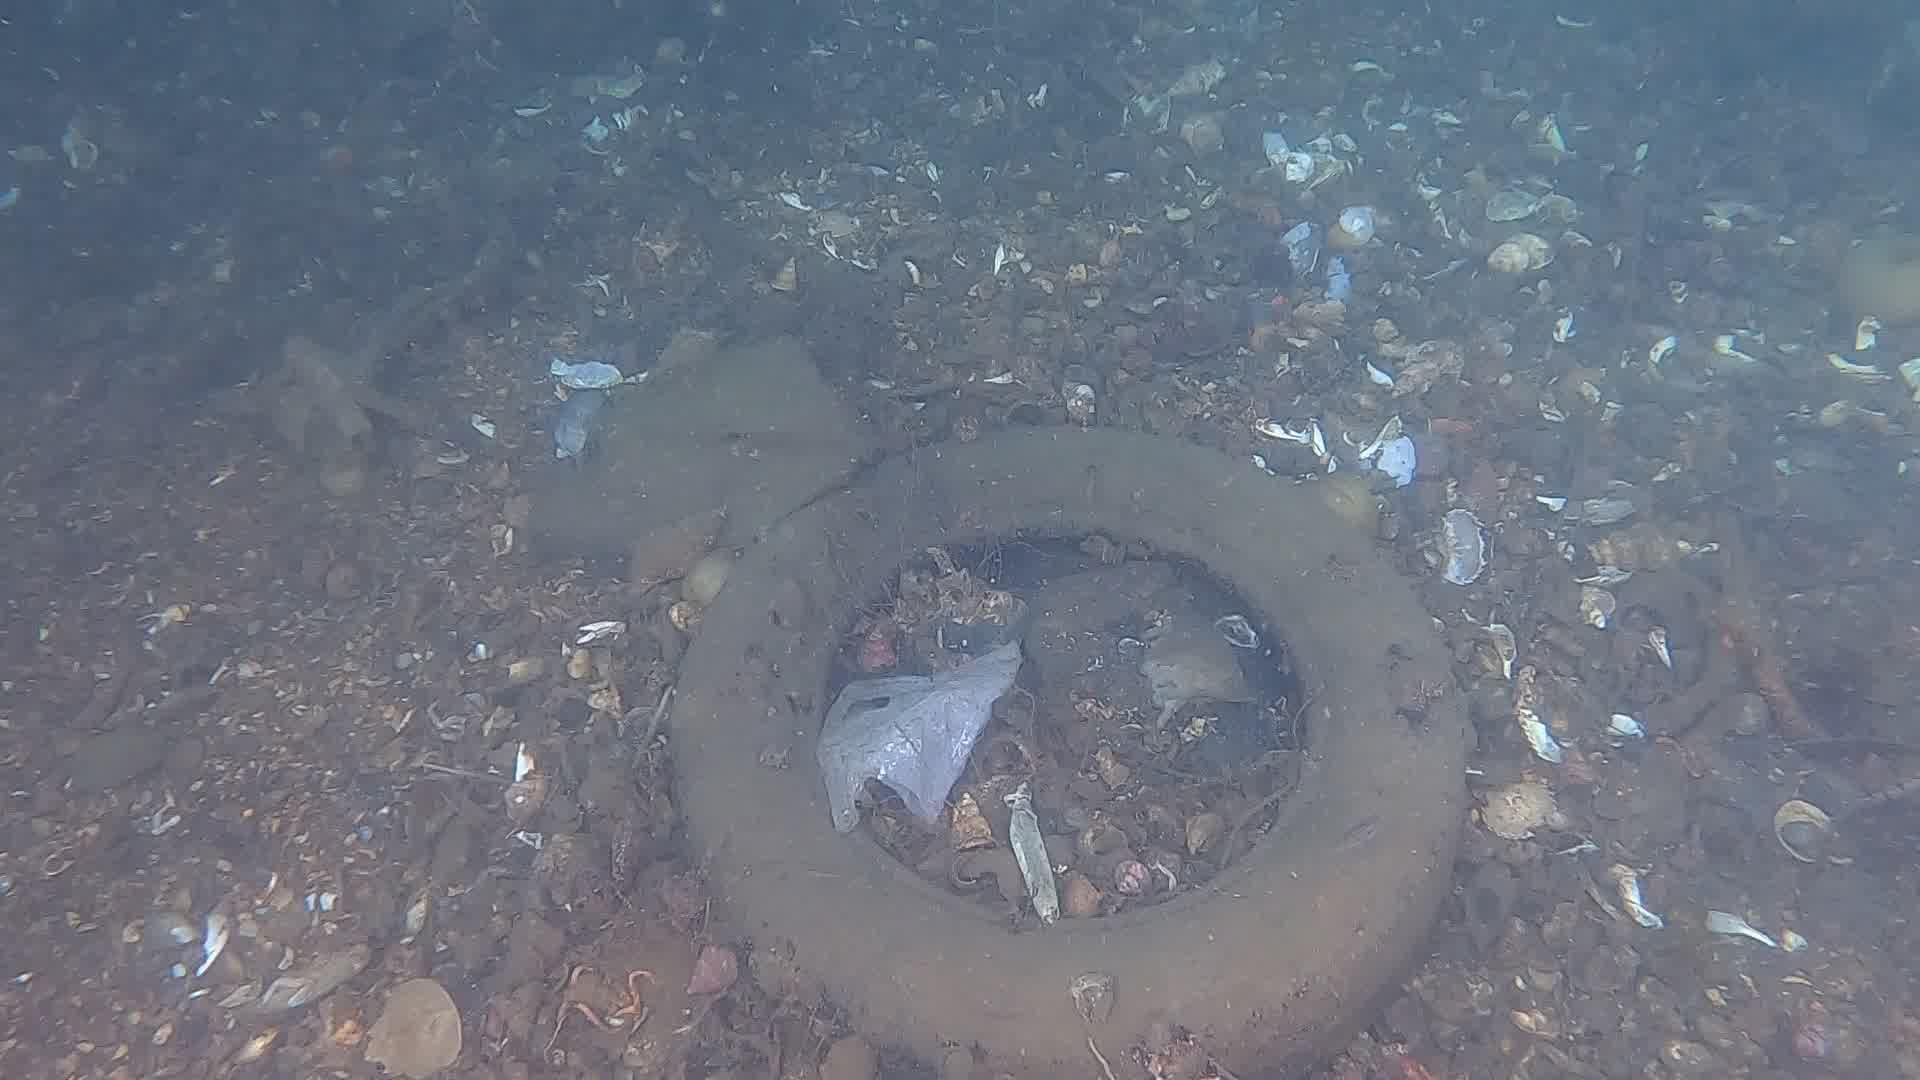tire: (676, 427, 1472, 1079)
